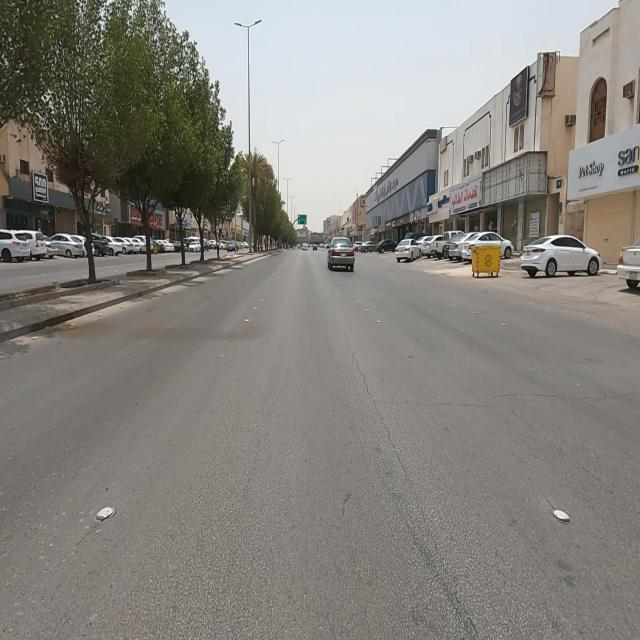debris: (450, 122, 571, 241)
